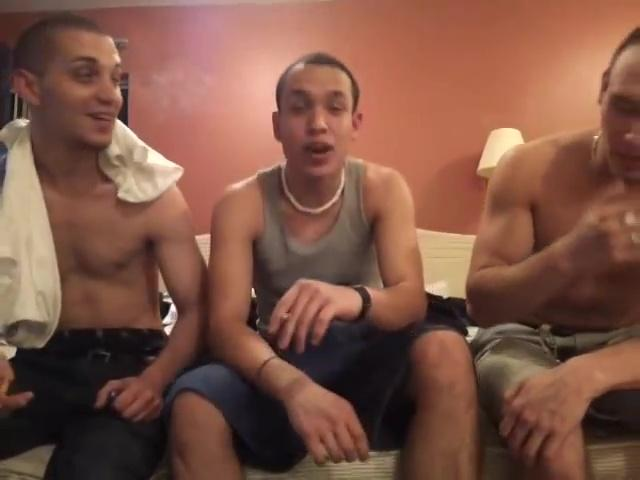cigarette: (623, 209, 639, 231), (278, 310, 293, 321)
